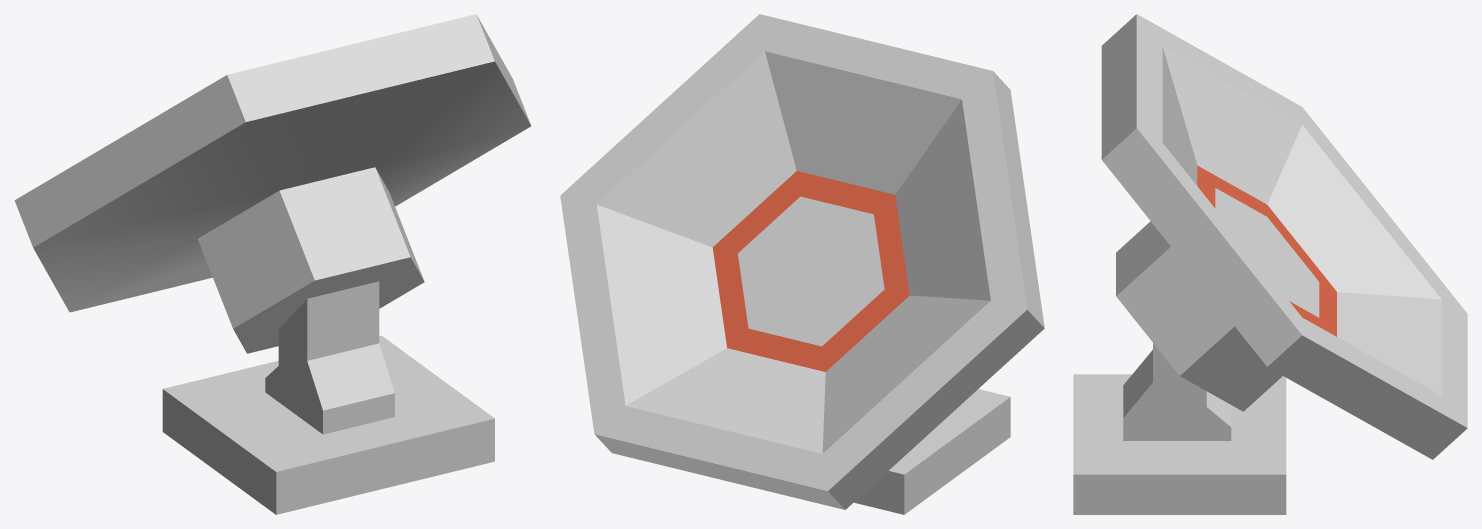
File: satelliteDish.fbx
3 renders of one model, left to right at view 1: azimuth 30°, elevation 25°; view 2: azimuth 150°, elevation 25°; view 3: azimuth 270°, elevation 25°, orthographic. The views are drawn at different scales.
Visible parts, largest first — view 1: satelliteDish; view 2: satelliteDish; view 3: satelliteDish.
Part boxes in pixels (<box>): satelliteDish: <box>14,14,531,514</box>; satelliteDish: <box>560,14,1044,514</box>; satelliteDish: <box>1073,14,1467,514</box>.
Size of the model in its own units: 8.58 by 6.89 by 6.26.
